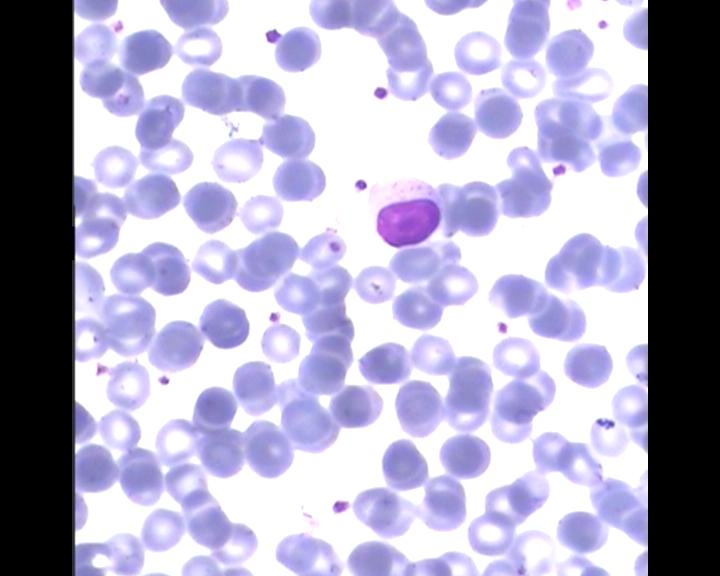mono: (358, 168, 446, 252)
